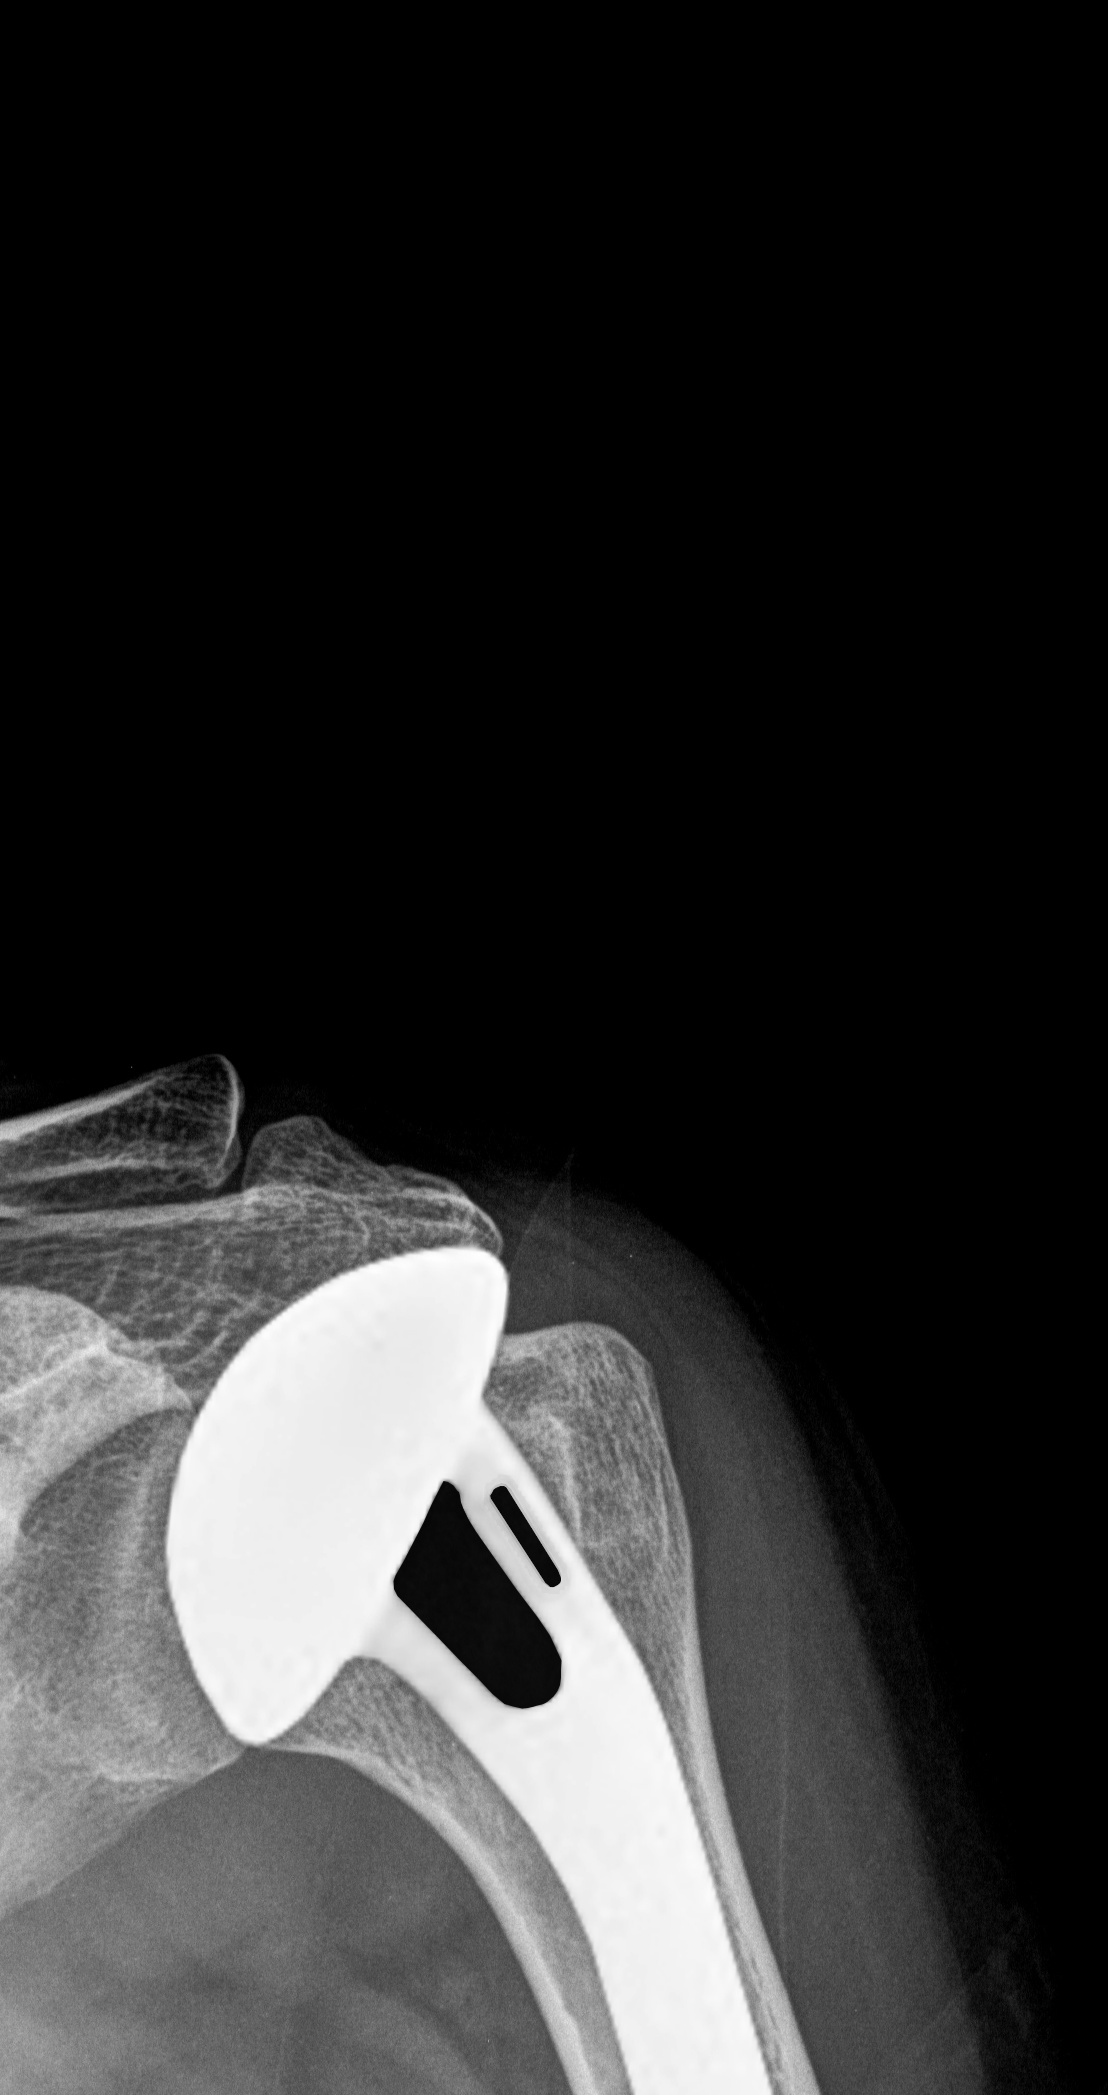Shoulder - AequalisFracture - Tornier: (133, 1233, 627, 1760)
